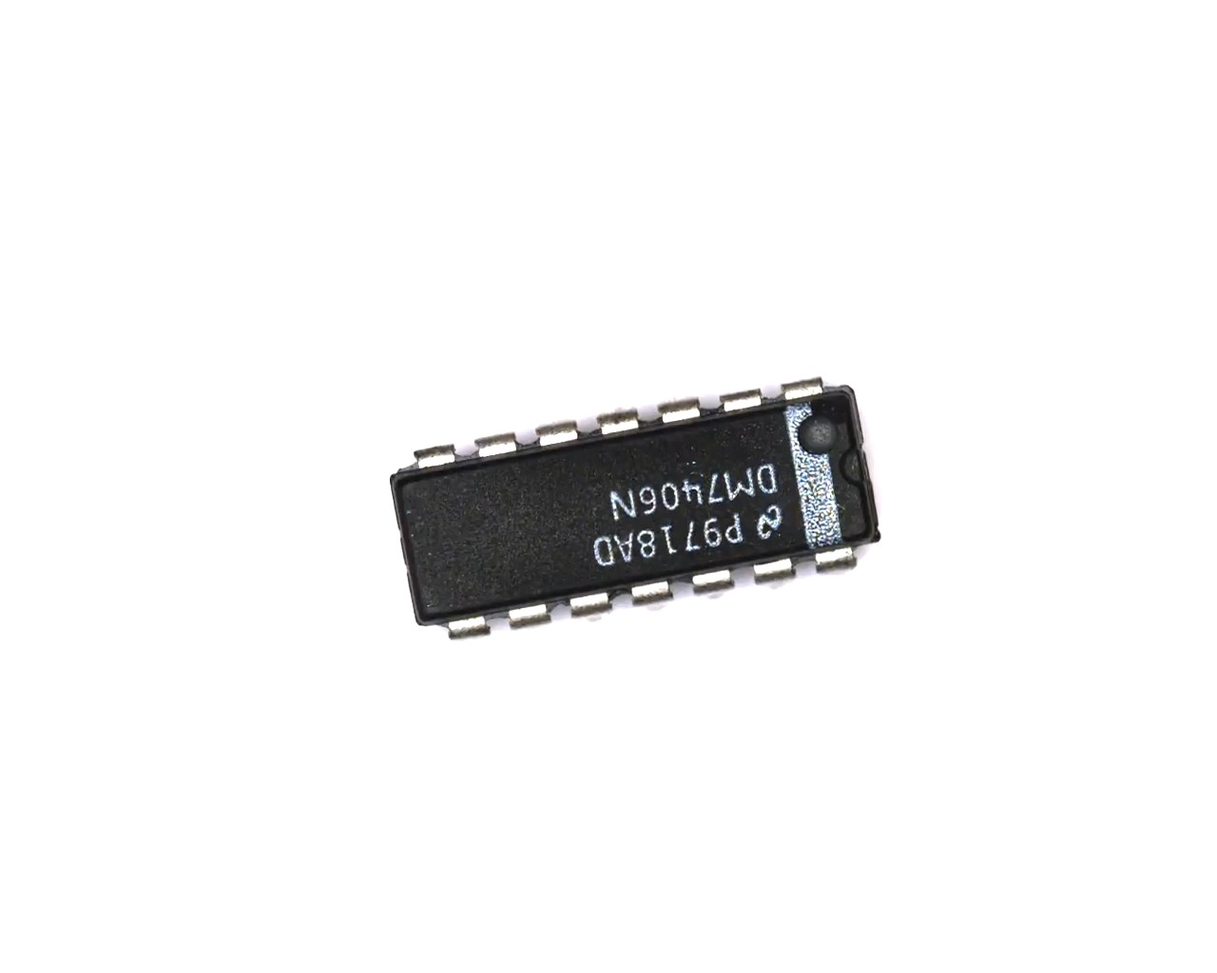IC: (369, 360, 905, 660)
notch: (834, 438, 877, 491)
